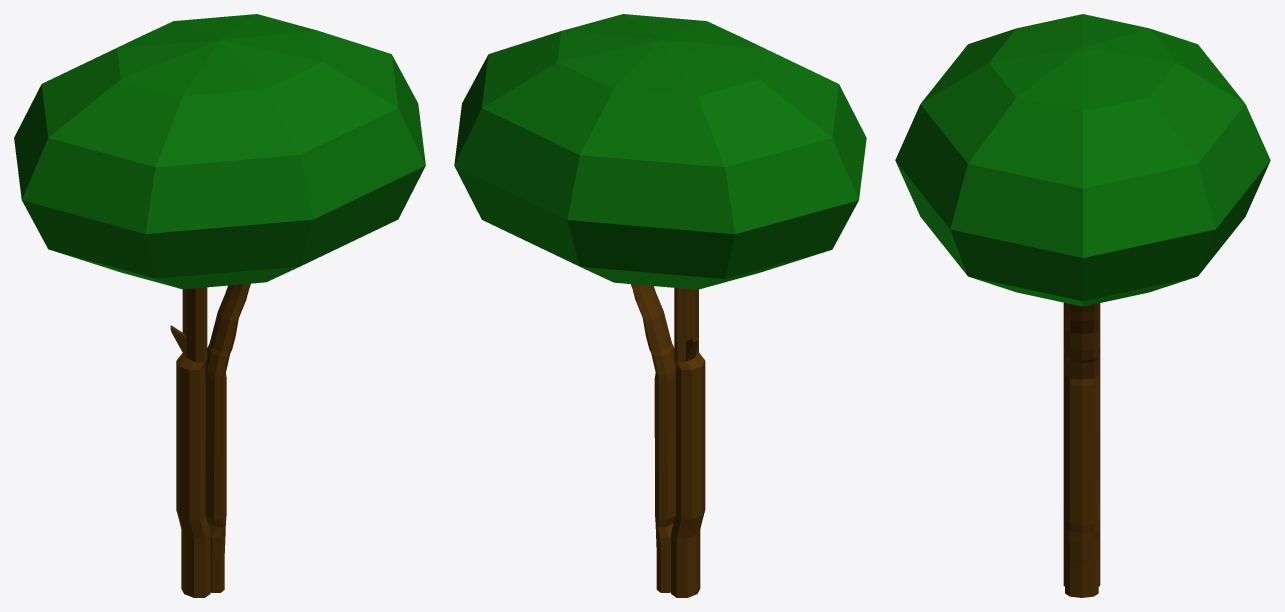
Rendered from tree2.fbx.
The picture shows the model from 3 angles, left to right: view 1: azimuth 30°, elevation 25°; view 2: azimuth 150°, elevation 25°; view 3: azimuth 270°, elevation 25°; orthographic projection.
Parts seen in each view (by area): view 1: polySurface23; view 2: polySurface23; view 3: polySurface23.
Part boxes in pixels (x1,y1,x2,y2): polySurface23: (14,14,425,597); polySurface23: (454,14,866,597); polySurface23: (895,14,1270,597).
Size of the model in its own units: 16.27 by 21.35 by 13.21.
